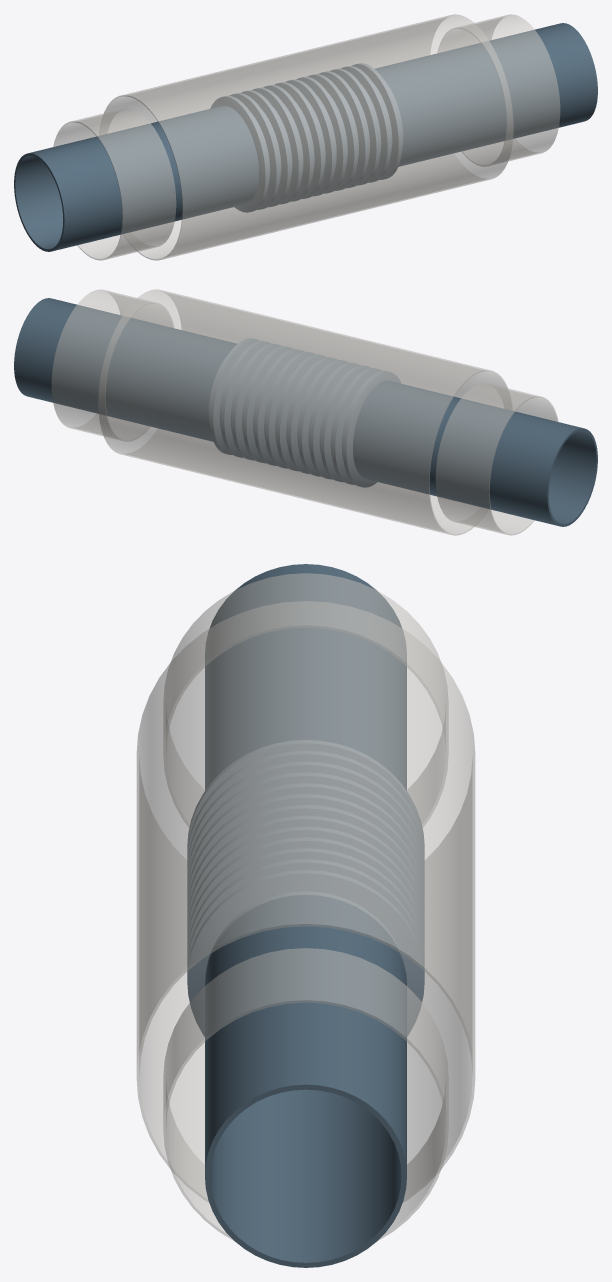
Rendered from ppu-dn200-L1334-D219-k-o367.glb.
The picture shows the model from 3 angles, top to bottom: view 1: azimuth 30°, elevation 25°; view 2: azimuth 150°, elevation 25°; view 3: azimuth 270°, elevation 25°; orthographic projection. The views are drawn at different scales.
Visible parts, largest first — view 1: uslovno_kozhuh_ppu, patrubok_1, patrubok_2, prokladka_silfon_1, uslovno_obolochka_l, uslovno_obolochka_r; view 2: uslovno_kozhuh_ppu, patrubok_1, patrubok_2, prokladka_silfon_1, uslovno_obolochka_l, uslovno_obolochka_r; view 3: uslovno_kozhuh_ppu, patrubok_2, prokladka_silfon_1, patrubok_1, uslovno_obolochka_r, uslovno_obolochka_l.
Part boxes in pixels (box(x1,y1,x2,y2)): uslovno_kozhuh_ppu: box(103, 14, 513, 260); patrubok_1: box(14, 105, 258, 251); patrubok_2: box(375, 23, 597, 166); prokladka_silfon_1: box(210, 63, 403, 212); uslovno_obolochka_l: box(53, 108, 176, 260); uslovno_obolochka_r: box(438, 14, 560, 166); uslovno_kozhuh_ppu: box(98, 289, 508, 535); patrubok_1: box(353, 380, 597, 526); patrubok_2: box(14, 298, 236, 441); prokladka_silfon_1: box(208, 338, 401, 487); uslovno_obolochka_l: box(435, 383, 558, 535); uslovno_obolochka_r: box(51, 289, 173, 441); uslovno_kozhuh_ppu: box(136, 601, 475, 1202); patrubok_2: box(205, 894, 406, 1267); prokladka_silfon_1: box(187, 740, 424, 1036); patrubok_1: box(205, 564, 406, 790); uslovno_obolochka_r: box(163, 948, 448, 1241); uslovno_obolochka_l: box(163, 573, 448, 826).
Bounding box in the file's own units: 1334 × 367 × 367.
